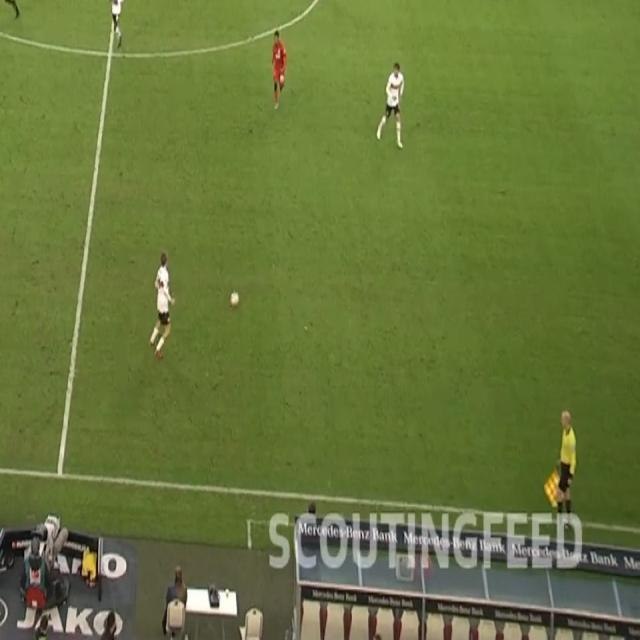ball: (229, 289, 240, 311)
